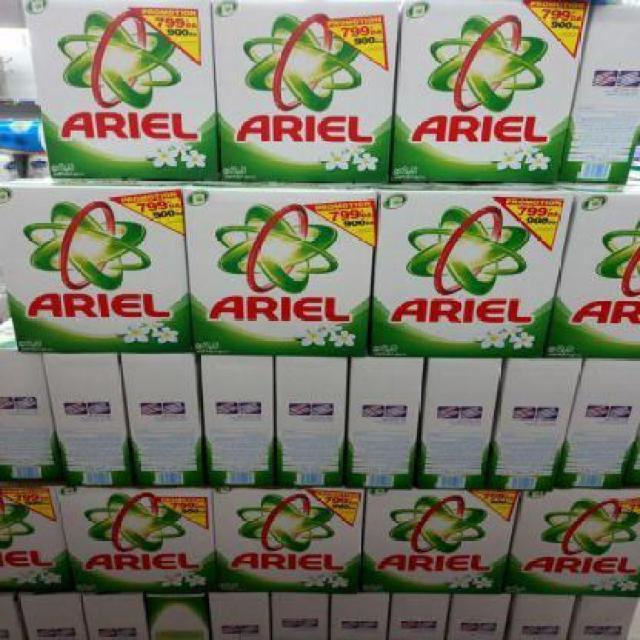Detergent: (26, 0, 218, 186), (391, 0, 591, 178), (211, 0, 391, 186), (371, 183, 553, 360), (188, 192, 377, 354), (6, 186, 188, 352), (206, 478, 364, 595), (70, 486, 216, 600), (362, 489, 513, 595), (510, 485, 639, 596), (556, 189, 639, 353), (0, 486, 66, 595)
